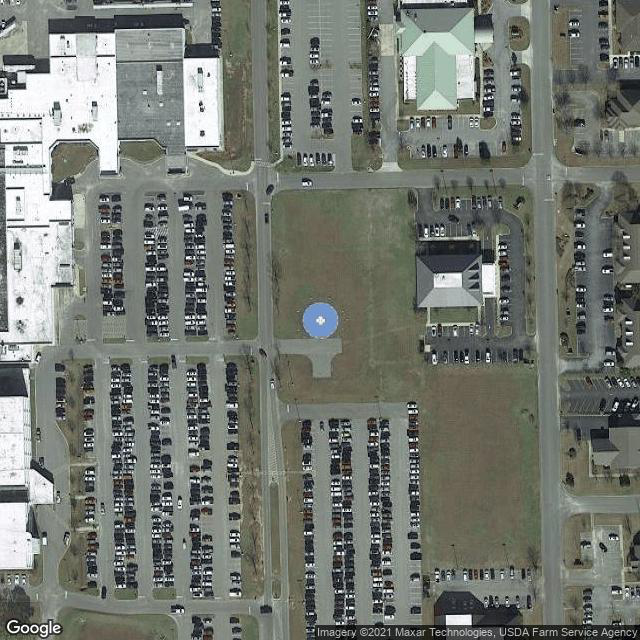Helipad: (297, 298, 343, 339)
